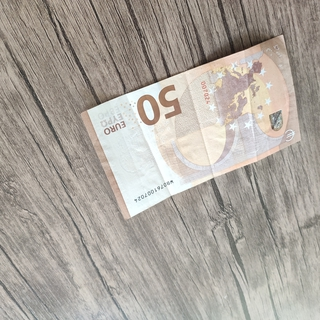50EUROBack: (76, 31, 303, 223)
